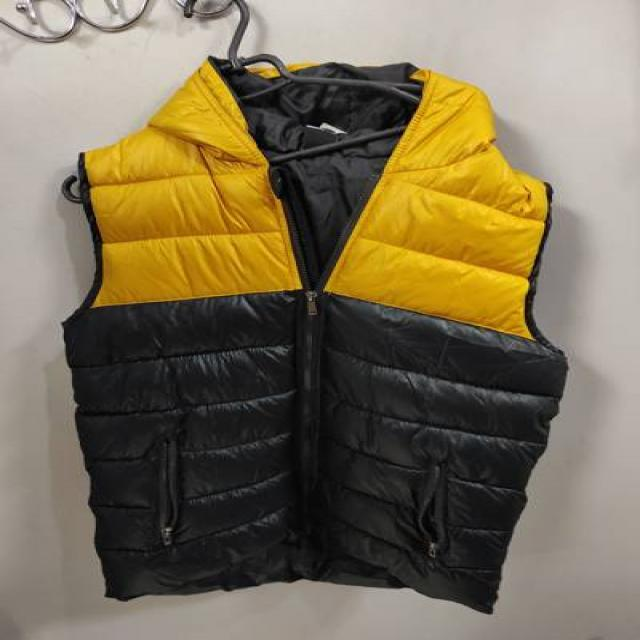Clothes -Biodegradable-: (55, 58, 559, 617)
